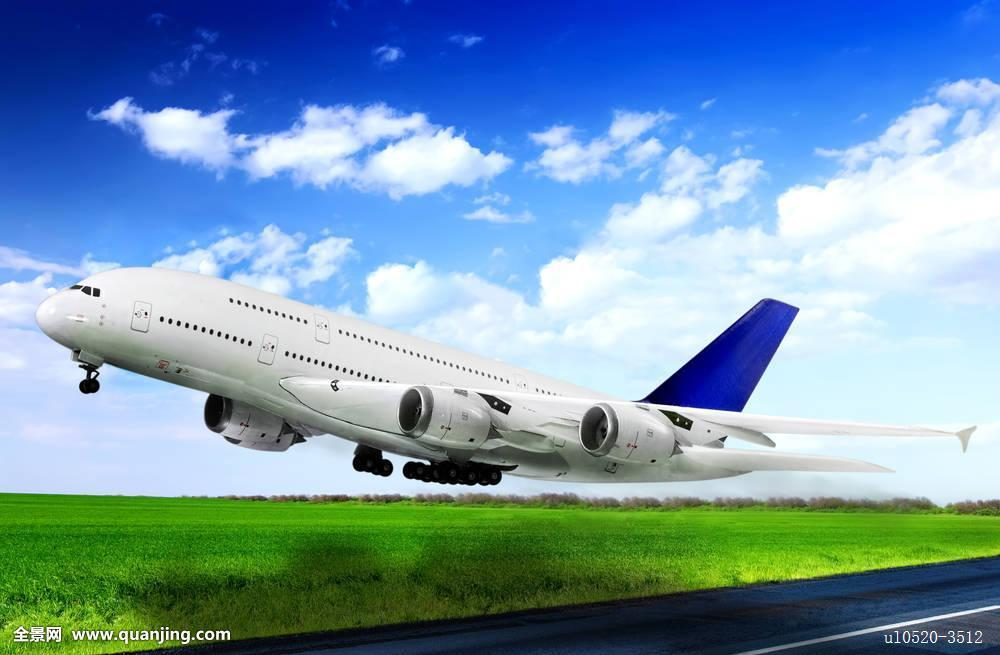airplane: (26, 261, 989, 486)
